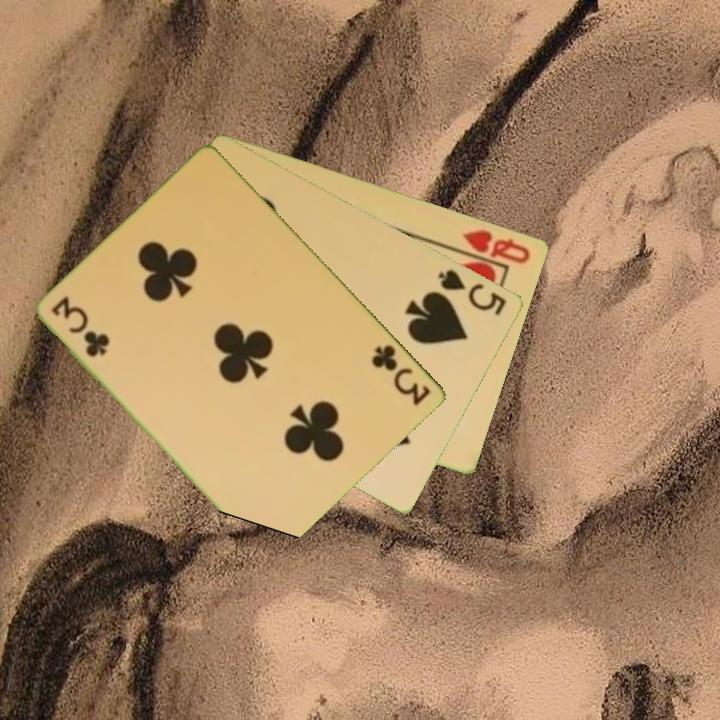3c: (368, 341, 434, 409), (48, 294, 112, 361)
5s: (434, 265, 510, 318)
Qh: (459, 225, 534, 266)
